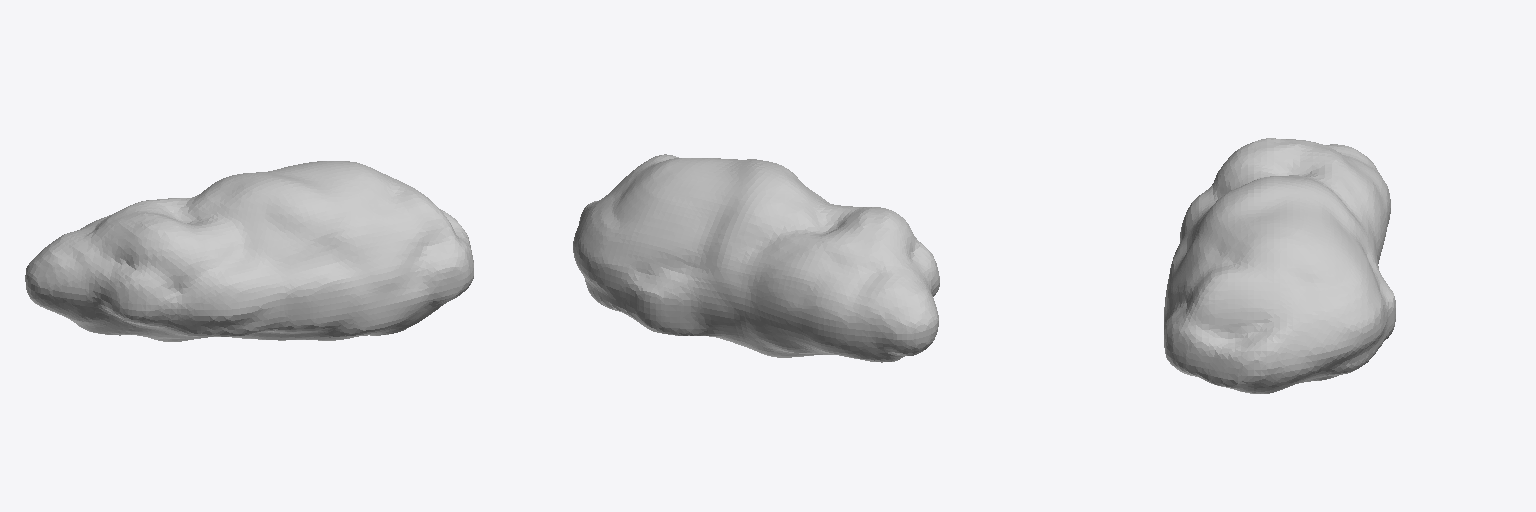
The model's file is cloud5.obj.
3 views of the same model, side by side, from view 1: azimuth 30°, elevation 25°; view 2: azimuth 150°, elevation 25°; view 3: azimuth 270°, elevation 25° (orthographic).
Visible parts, largest first — view 1: mesh_0; view 2: mesh_0; view 3: mesh_0.
Boxes of the visible parts, <box> form: mesh_0: <box>25,161,473,341</box>; mesh_0: <box>573,154,939,362</box>; mesh_0: <box>1164,138,1395,393</box>.
Size of the model in its own units: 136 by 51.16 by 69.86.